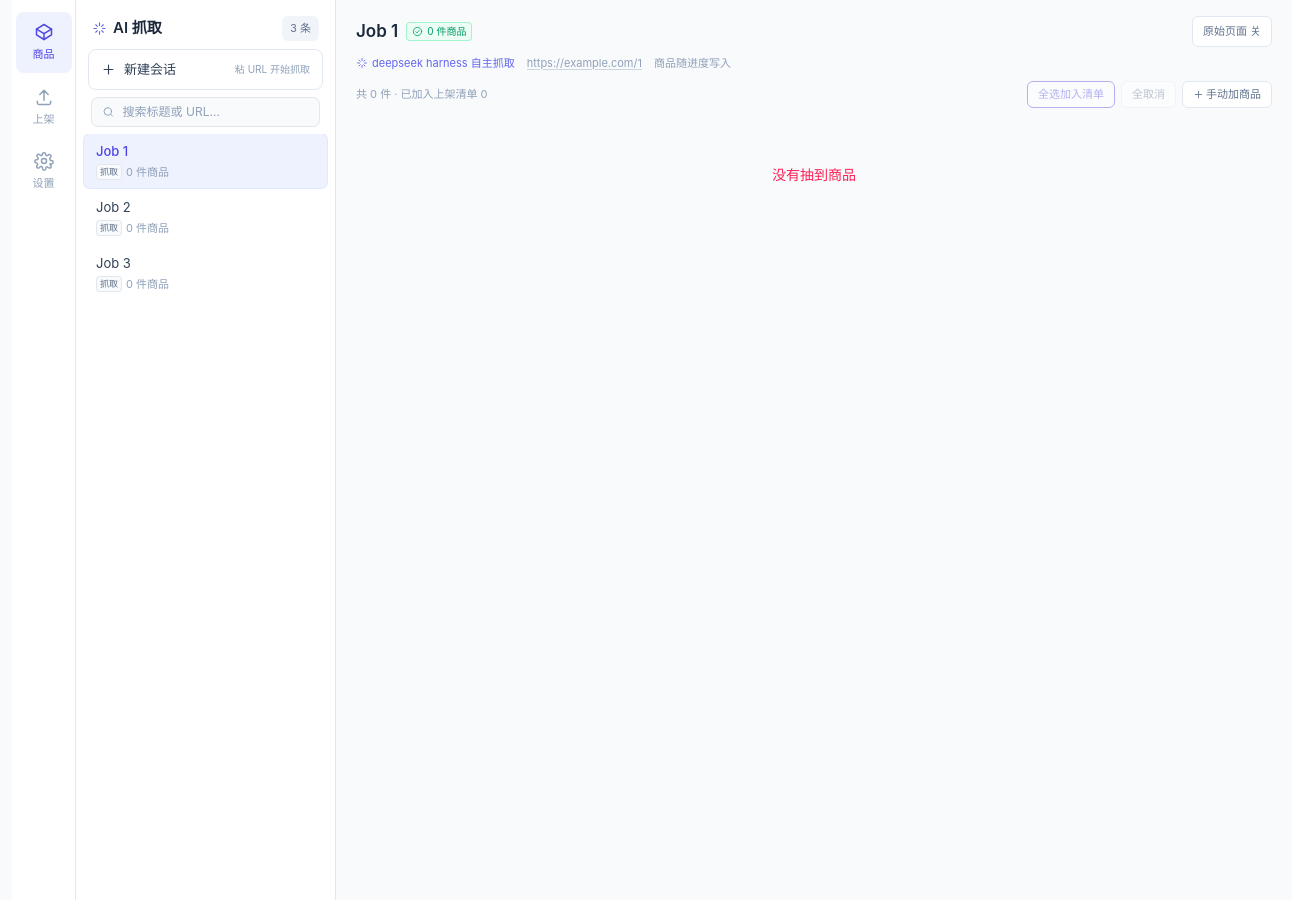
Test: late response cannot replace the currently selected job
Expected: the heading "Job 1" is shown, [356,18,398,44]
Click the button "Job 2 抓取 0 件商品".
click(190, 217)  # box [84,190,295,244]
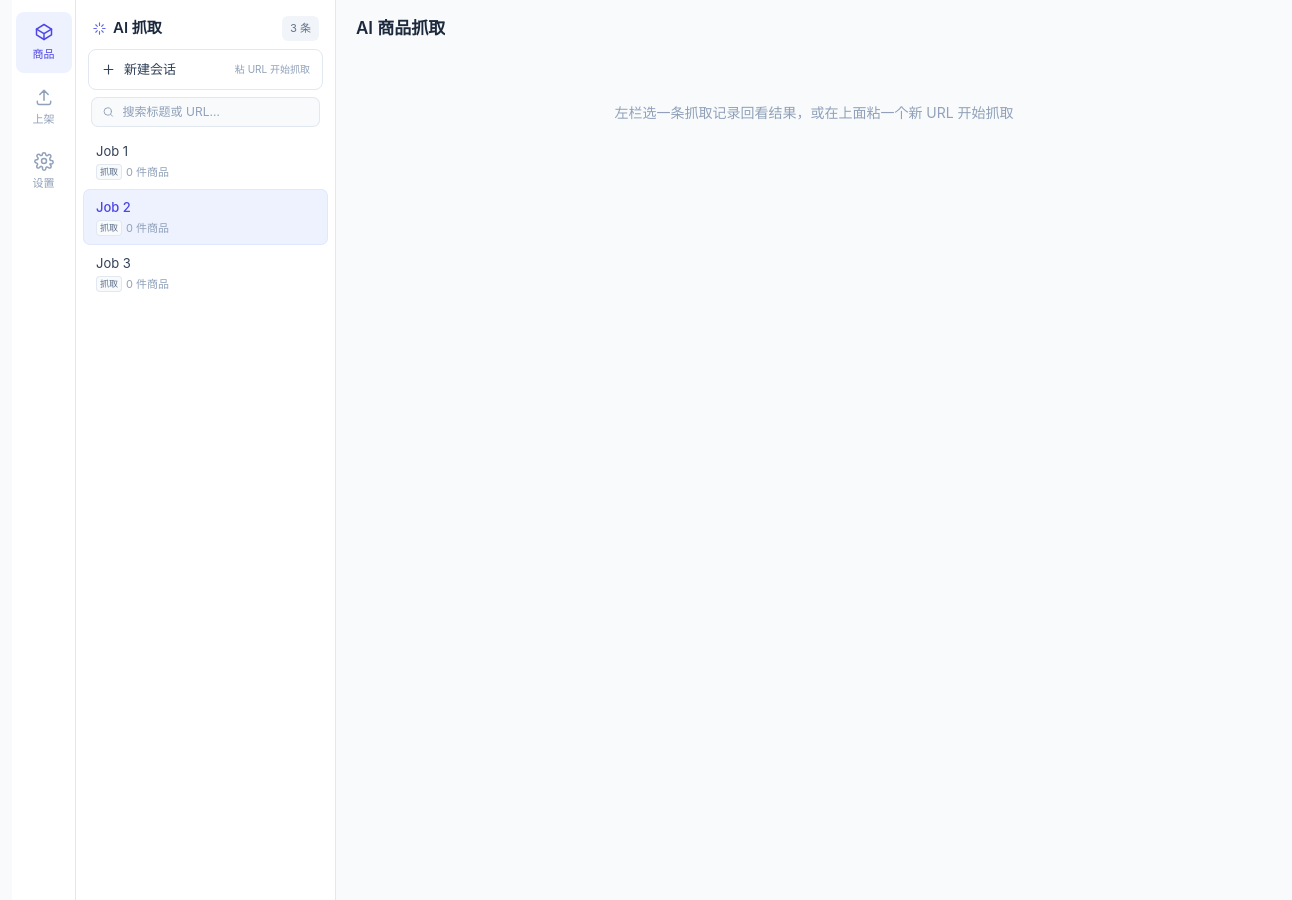
Click the button "Job 3 抓取 0 件商品".
click(190, 273)  # box [84,246,295,300]
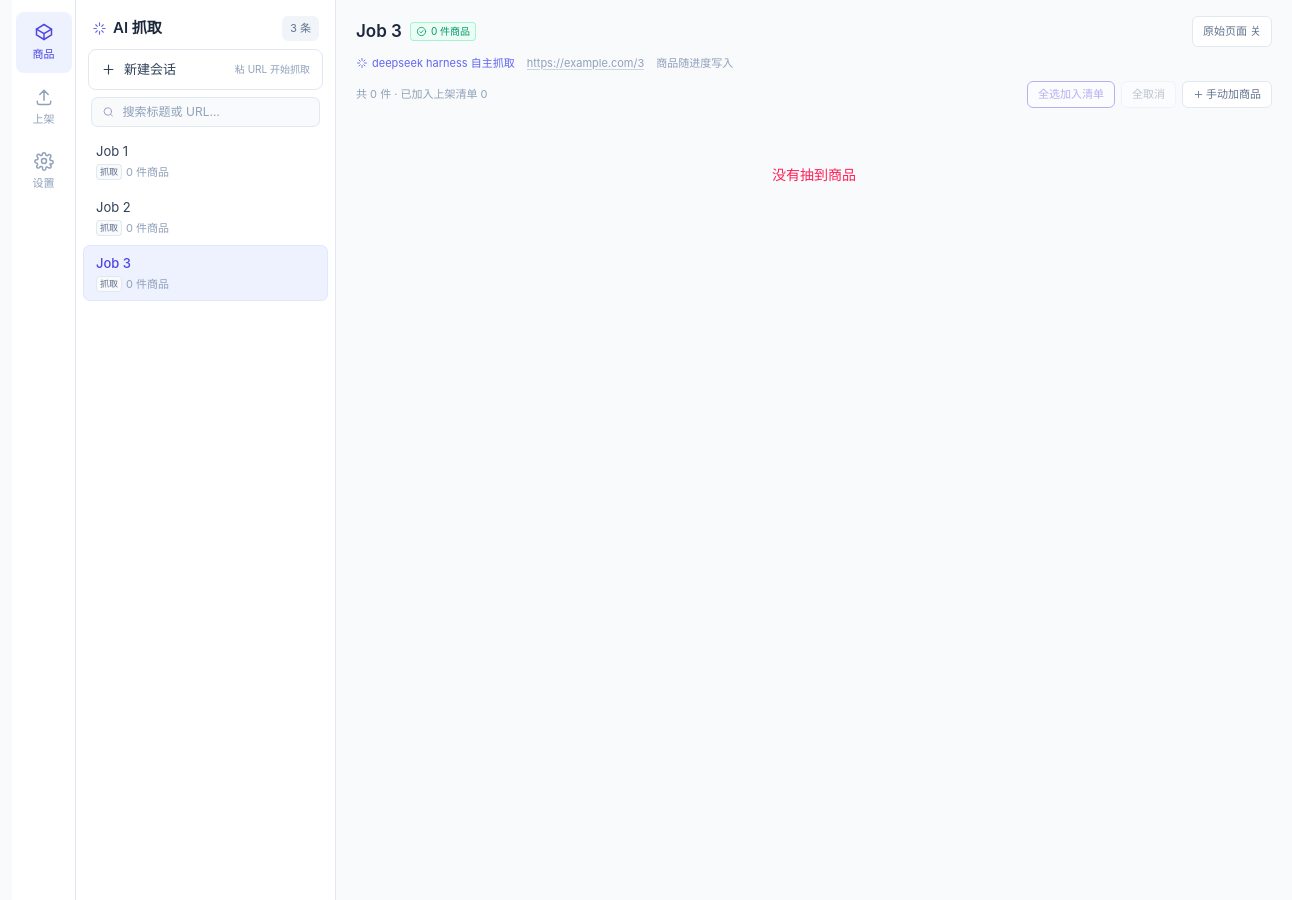
Expected: the heading "Job 3" is shown, [356,18,402,44]
